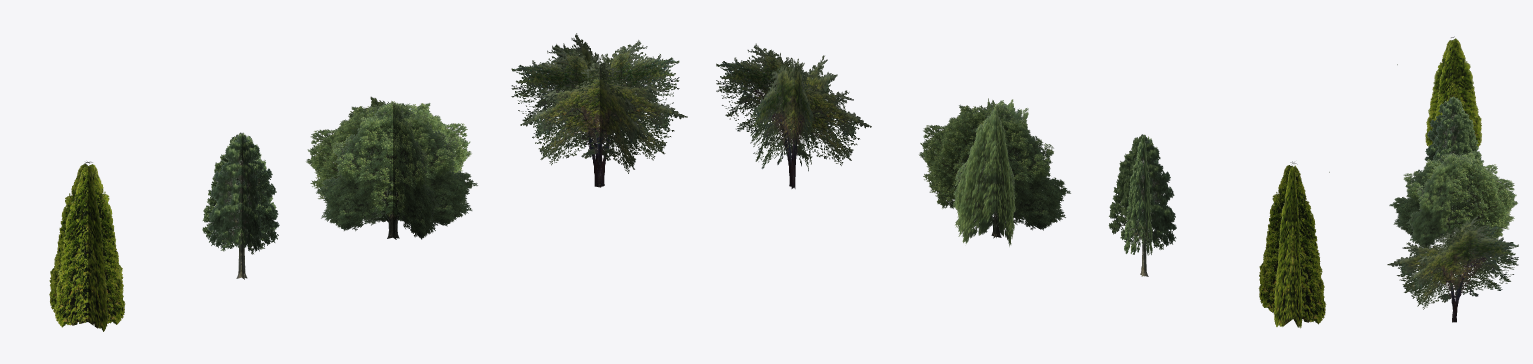
The model's file is png trees pack.fbx.
The picture shows the model from 3 angles, left to right: view 1: azimuth 30°, elevation 25°; view 2: azimuth 150°, elevation 25°; view 3: azimuth 270°, elevation 25°; orthographic projection. The views are drawn at different scales.
Parts seen in each view (by area): view 1: Plane.004, Plane.005, Plane.002, Plane.003; view 2: Plane.004, Plane.005, Plane.002, Plane.003; view 3: Plane.004, Plane.005, Plane.002, Plane.003.
Boxes of the visible parts, x1,y1,x2,y2 form: Plane.004: (306,96,477,239); Plane.005: (511,33,687,187); Plane.002: (49,161,125,331); Plane.003: (202,132,279,279); Plane.004: (919,98,1070,246); Plane.005: (716,43,871,188); Plane.002: (1258,161,1329,328); Plane.003: (1108,134,1176,276); Plane.004: (1389,152,1517,247); Plane.005: (1387,214,1518,322); Plane.002: (1397,36,1481,146); Plane.003: (1424,96,1481,166).
Size of the model in its own units: 3097 by 718 by 750.
Materials: 1 (1 with a texture image).
